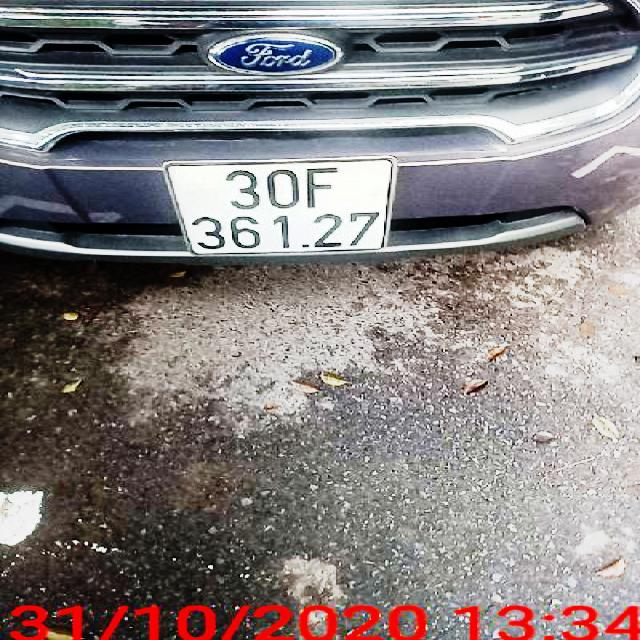license_plate: (163, 159, 399, 257)
